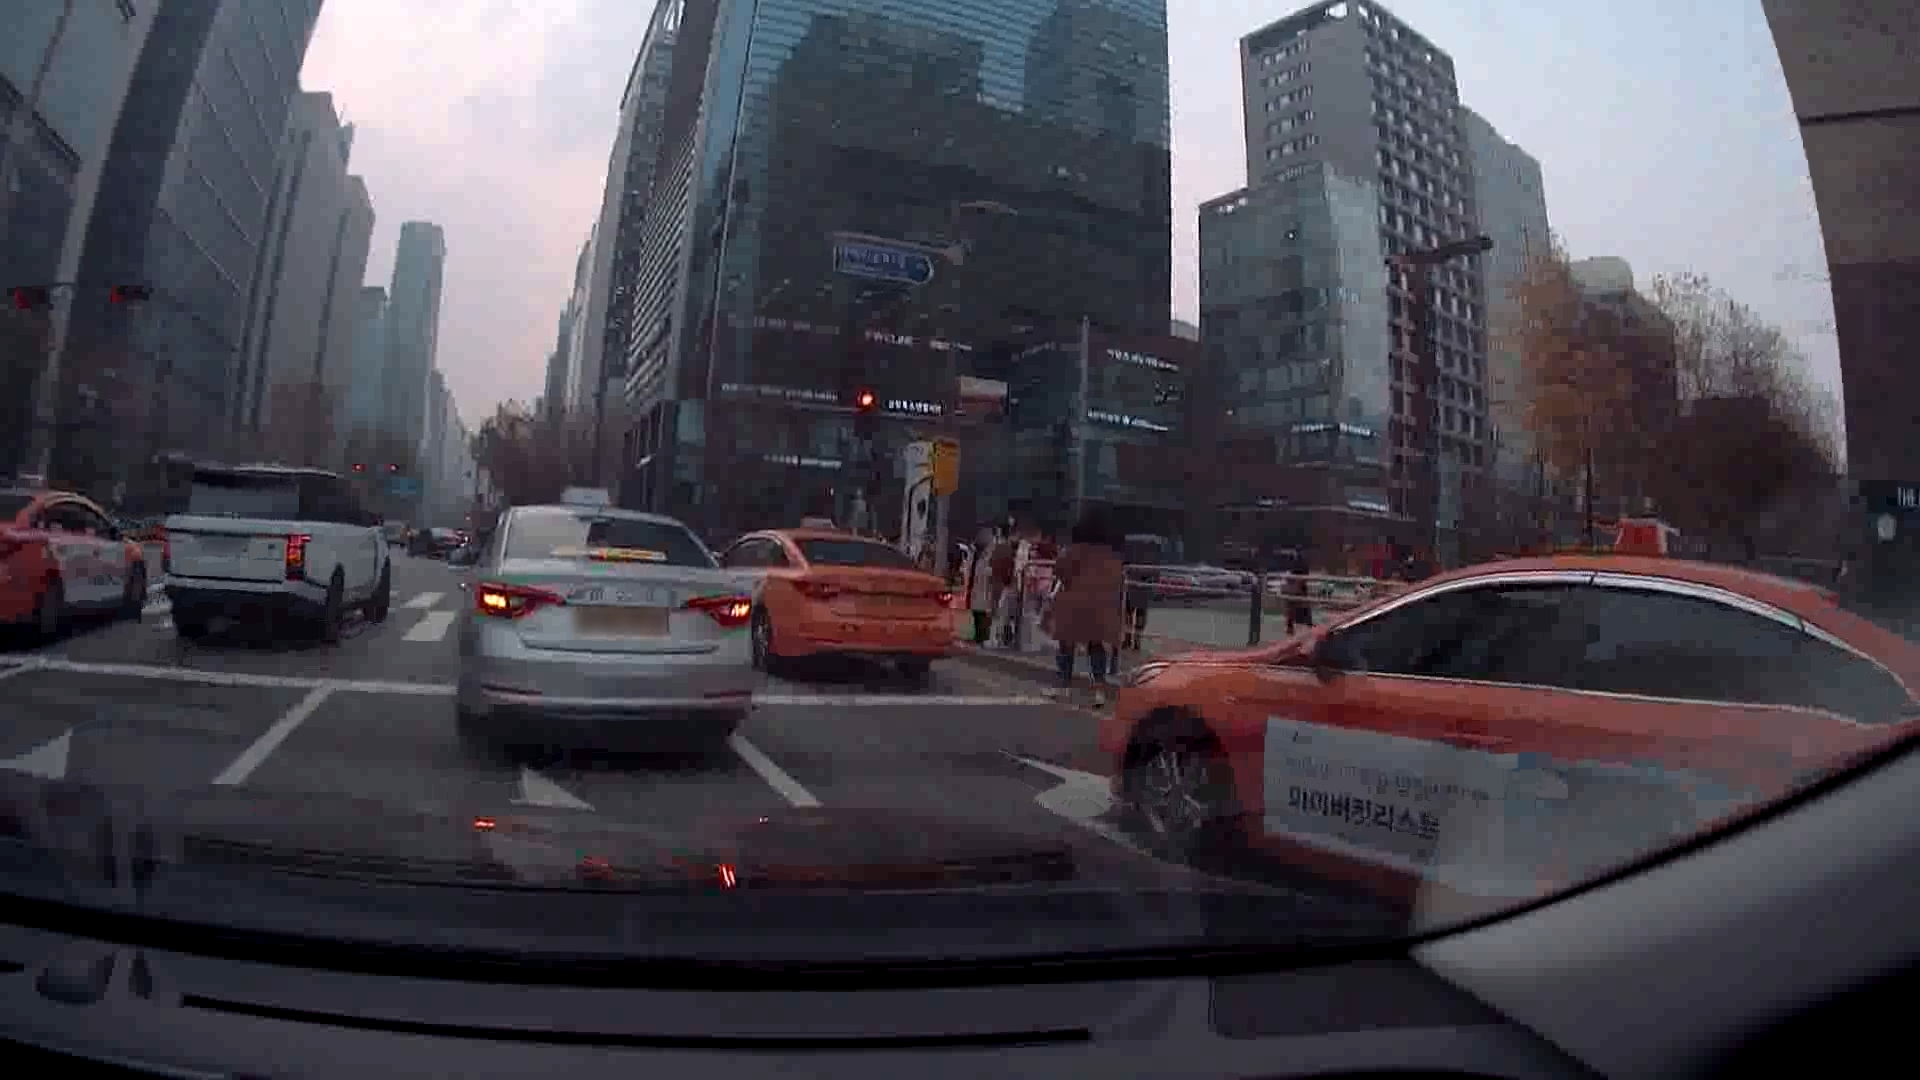trafficLight: (347, 462, 410, 476)
trafficLightBar: (847, 375, 887, 442)
